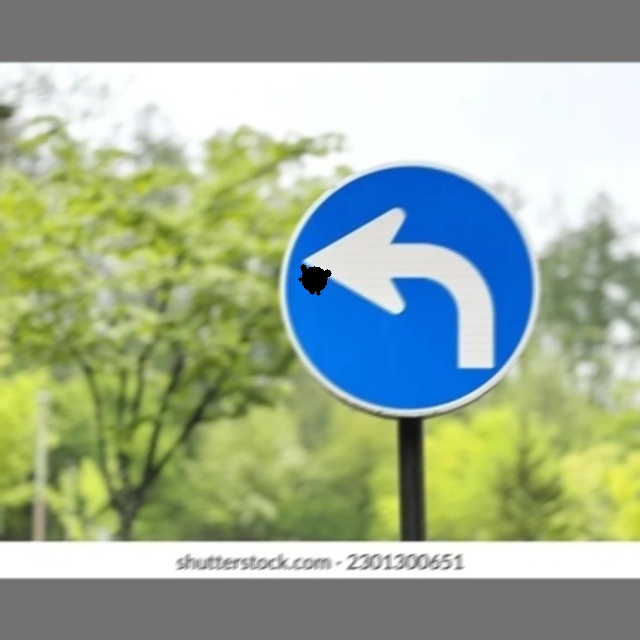Compulsory_Turn_Left_Ahead: (275, 162, 539, 417)
